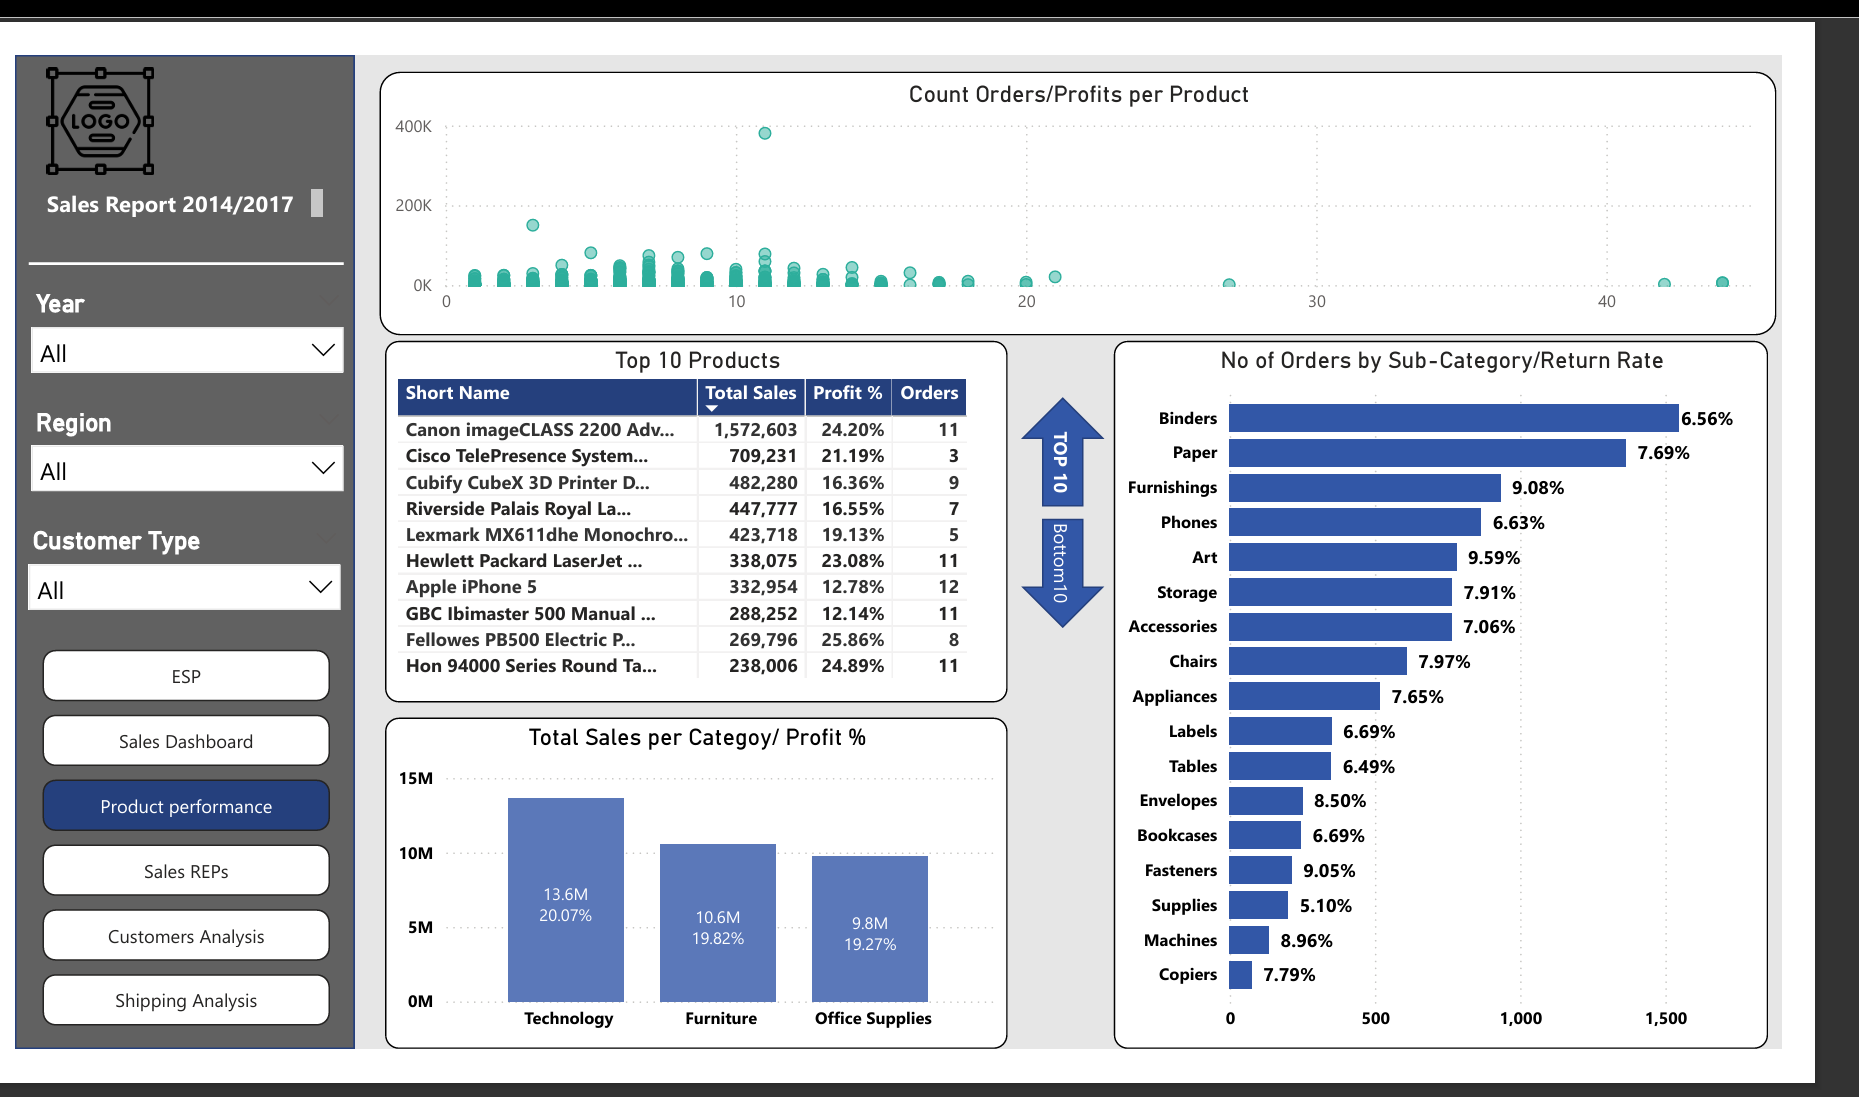

What the dashboard file says about the page in this screenshot:
{"tool":"powerbi","page":{"name":"Product performance","canvas":[1280,720],"ordinal":2},"visuals":[{"type":"tableEx","title":"Top 10 Products","fields":{"Values":["Products.Short Name","Sum(Orders_details.Total Sales)","Table.Profit margin %","Orders.Order ID"]},"box":[267.8,207.4,450.7,262.1],"z":0},{"type":"clusteredColumnChart","title":"Total Sales per Categoy/ Profit %","fields":{"Category":["Products.Category","Products.Sub-Category"],"Y":["Sum(Orders_details.Total Sales)"]},"box":[267.8,479.5,450.7,240.5],"z":1000},{"type":"scatterChart","title":"Count Orders/Profits per Product","fields":{"Category":["Products.Product Name"],"X":["Orders.Order ID"],"Y":["Table.total profit"]},"box":[263.5,11.5,1012.3,191.5],"z":2000},{"type":"shape","box":[0.4,0,246,720],"z":3000},{"type":"pageNavigator","box":[20.2,431.5,207.4,275],"z":3000,"group":"g1"},{"type":"group","id":"g1","title":"Group 2","box":[0,4.3,248,702.3],"z":4000},{"type":"image","box":[0,4.3,124,88],"z":4000,"group":"g2"},{"type":"textbox","box":[18,92.3,210,30],"z":5000,"group":"g2"},{"type":"group","id":"g2","title":"Group 1","box":[0,4.3,248,322],"z":5001,"group":"g1"},{"type":"shape","box":[10,138.3,228,26],"z":6000,"group":"g2"},{"type":"slicer","fields":{"Values":["Customers.Customer Type"]},"box":[0,335.5,246.2,76.3],"z":6000},{"type":"slicer","fields":{"Values":["Orders.OrderDate.Variation.Date Hierarchy.Year"]},"box":[2,164.3,246,76],"z":7000,"group":"g2"},{"type":"clusteredBarChart","title":"No of Orders by Sub-Category/Return Rate","fields":{"Category":["Products.Sub-Category"],"Y":["CountNonNull(Orders_details.Order ID)"]},"box":[796.3,207.4,473.8,512.6],"z":7000},{"type":"shape","box":[728.6,247.7,60.5,79.2],"z":8000},{"type":"slicer","fields":{"Values":["Shipping.Region"]},"box":[2,250.3,246,76],"z":8000,"group":"g2"},{"type":"shape","box":[728.6,335.5,60.5,79.2],"z":9000}]}

Visuals, with their boxes on the page's 1280x720 design canvas (x1, y1, x2, y2). These are canvas units, not pixel positions in the 1859x1097 screenshot, which may show the page scaled, cropped or inside an application window:
"Top 10 Products" tableEx: <region>268, 207, 718, 470</region>
"Total Sales per Categoy/ Profit %" clusteredColumnChart: <region>268, 480, 718, 720</region>
"Count Orders/Profits per Product" scatterChart: <region>264, 12, 1276, 203</region>
shape: <region>0, 0, 246, 720</region>
pageNavigator: <region>20, 432, 228, 706</region>
"Group 2" group: <region>0, 4, 248, 707</region>
image: <region>0, 4, 124, 92</region>
textbox: <region>18, 92, 228, 122</region>
"Group 1" group: <region>0, 4, 248, 326</region>
shape: <region>10, 138, 238, 164</region>
slicer - Customers.Customer Type: <region>0, 336, 246, 412</region>
slicer - Orders.OrderDate.Variation.Date Hierarchy.Year: <region>2, 164, 248, 240</region>
"No of Orders by Sub-Category/Return Rate" clusteredBarChart: <region>796, 207, 1270, 720</region>
shape: <region>729, 248, 789, 327</region>
slicer - Shipping.Region: <region>2, 250, 248, 326</region>
shape: <region>729, 336, 789, 415</region>
